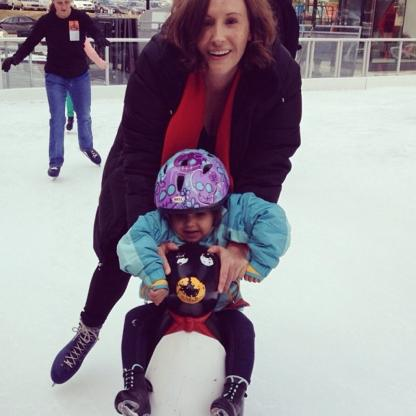Helmet: (157, 152, 220, 220)
